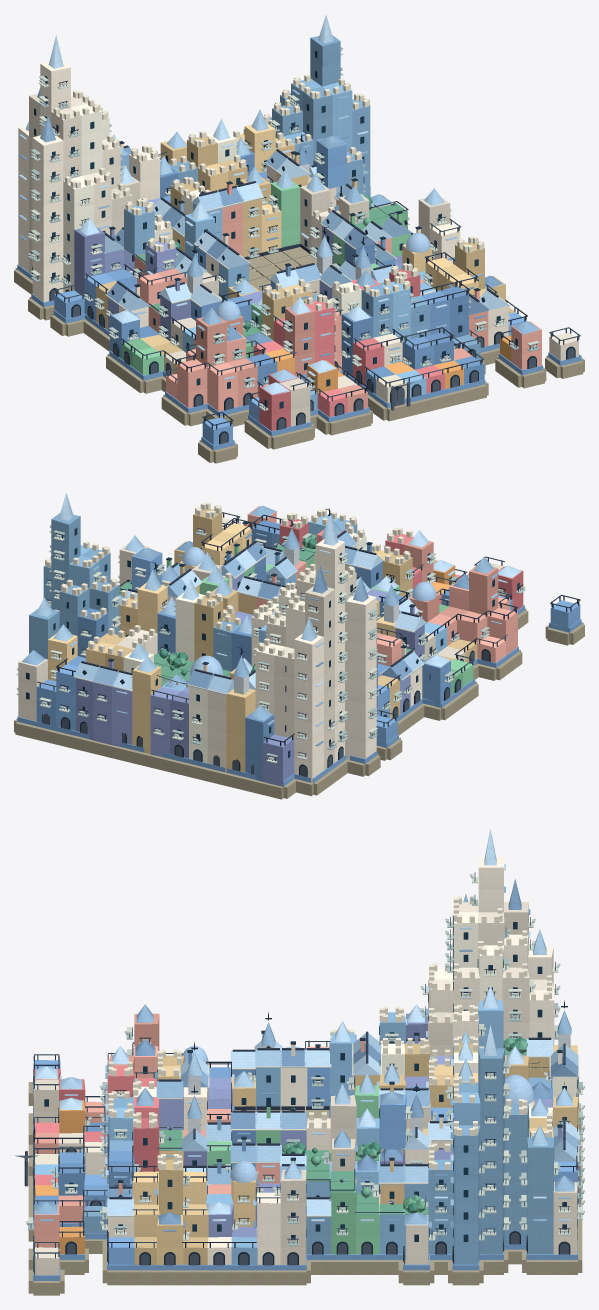
File: castle-shared-edge-town-v1.glb
3 renders of one model, top to bottom at view 1: azimuth 30°, elevation 25°; view 2: azimuth 150°, elevation 25°; view 3: azimuth 270°, elevation 25°, orthographic. The views are drawn at different scales.
Visible parts, largest first — view 1: town-terrace-0-level-0, town-terrace-0-level-3, town-terrace-0-level-2, town-terrace-0-level-1, town-terrace-0-level-4, town-terrace-0-level-5, town-terrace-0-level-6, town-terrace-0-level-8, town-terrace-0-level-7, town-terrace-0-level-10, town-terrace-0-level-9; view 2: town-terrace-0-level-2, town-terrace-0-level-3, town-terrace-0-level-0, town-terrace-0-level-1, town-terrace-0-level-4, town-terrace-0-level-5, town-terrace-0-level-6, town-terrace-0-level-7, town-terrace-0-level-8, town-terrace-0-level-10, town-terrace-0-level-9; view 3: town-terrace-0-level-3, town-terrace-0-level-0, town-terrace-0-level-2, town-terrace-0-level-1, town-terrace-0-level-4, town-terrace-0-level-5, town-terrace-0-level-6, town-terrace-0-level-8, town-terrace-0-level-7, town-terrace-0-level-10, town-terrace-0-level-9.
Boxes of the visible parts, bbox=[...] form: town-terrace-0-level-0: bbox=[14, 249, 584, 463]; town-terrace-0-level-3: bbox=[18, 128, 484, 346]; town-terrace-0-level-2: bbox=[18, 158, 484, 367]; town-terrace-0-level-1: bbox=[18, 186, 541, 415]; town-terrace-0-level-4: bbox=[18, 113, 370, 241]; town-terrace-0-level-5: bbox=[18, 89, 370, 209]; town-terrace-0-level-6: bbox=[18, 74, 352, 185]; town-terrace-0-level-8: bbox=[29, 14, 343, 140]; town-terrace-0-level-7: bbox=[29, 58, 343, 165]; town-terrace-0-level-10: bbox=[39, 35, 70, 91]; town-terrace-0-level-9: bbox=[39, 85, 70, 111]; town-terrace-0-level-2: bbox=[16, 514, 498, 743]; town-terrace-0-level-3: bbox=[29, 502, 498, 723]; town-terrace-0-level-0: bbox=[14, 512, 584, 799]; town-terrace-0-level-1: bbox=[16, 505, 525, 766]; town-terrace-0-level-4: bbox=[29, 552, 377, 703]; town-terrace-0-level-5: bbox=[43, 547, 377, 684]; town-terrace-0-level-6: bbox=[49, 541, 377, 664]; town-terrace-0-level-7: bbox=[49, 536, 377, 636]; town-terrace-0-level-8: bbox=[49, 493, 356, 616]; town-terrace-0-level-10: bbox=[315, 513, 347, 568]; town-terrace-0-level-9: bbox=[315, 563, 347, 588]; town-terrace-0-level-3: bbox=[100, 1000, 579, 1203]; town-terrace-0-level-0: bbox=[15, 1054, 582, 1295]; town-terrace-0-level-2: bbox=[100, 1012, 584, 1225]; town-terrace-0-level-1: bbox=[26, 1042, 584, 1247]; town-terrace-0-level-4: bbox=[330, 1002, 560, 1180]; town-terrace-0-level-5: bbox=[379, 962, 560, 1157]; town-terrace-0-level-6: bbox=[445, 929, 560, 1125]; town-terrace-0-level-8: bbox=[445, 879, 535, 1080]; town-terrace-0-level-7: bbox=[445, 893, 535, 1103]; town-terrace-0-level-10: bbox=[470, 829, 505, 889]; town-terrace-0-level-9: bbox=[470, 886, 505, 912].
Size of the model in its own units: 38.9 by 26.22 by 46.31.
Materials: 88 (79 with a texture image).
